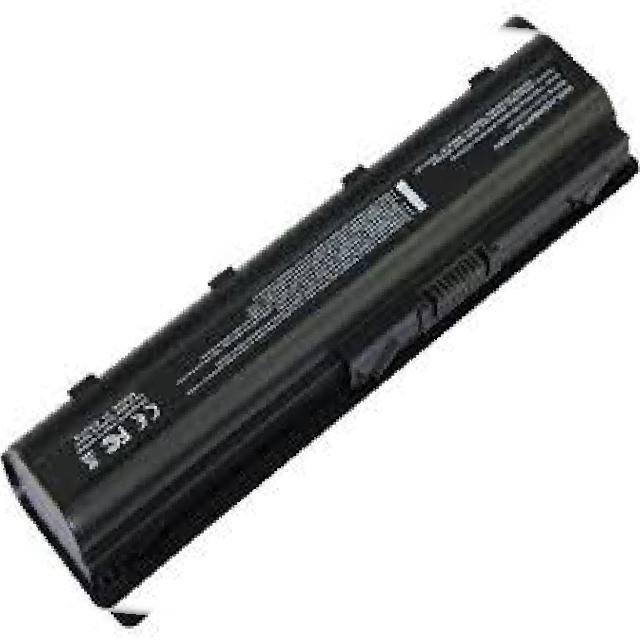Battery: (9, 18, 640, 606)
